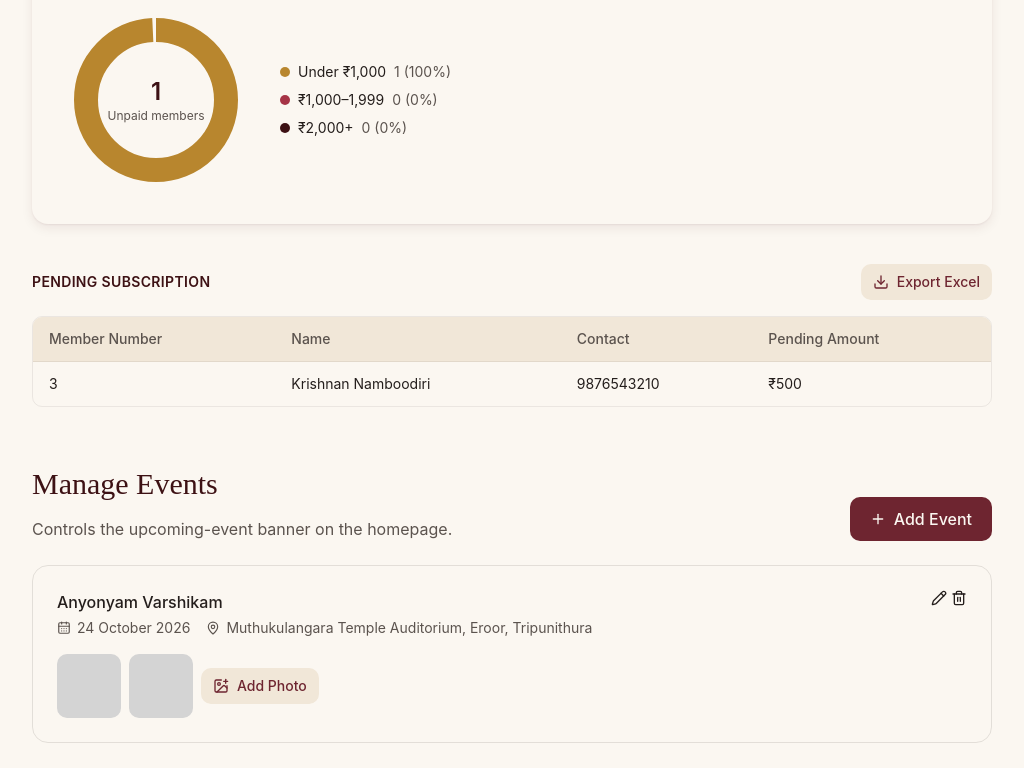
Test: AdminPage › opens the record-payment modal when a row is clicked
(page scrolled)
Click the text "Krishnan Namboodiri": {"x": 418, "y": 384} [275,362,561,406]
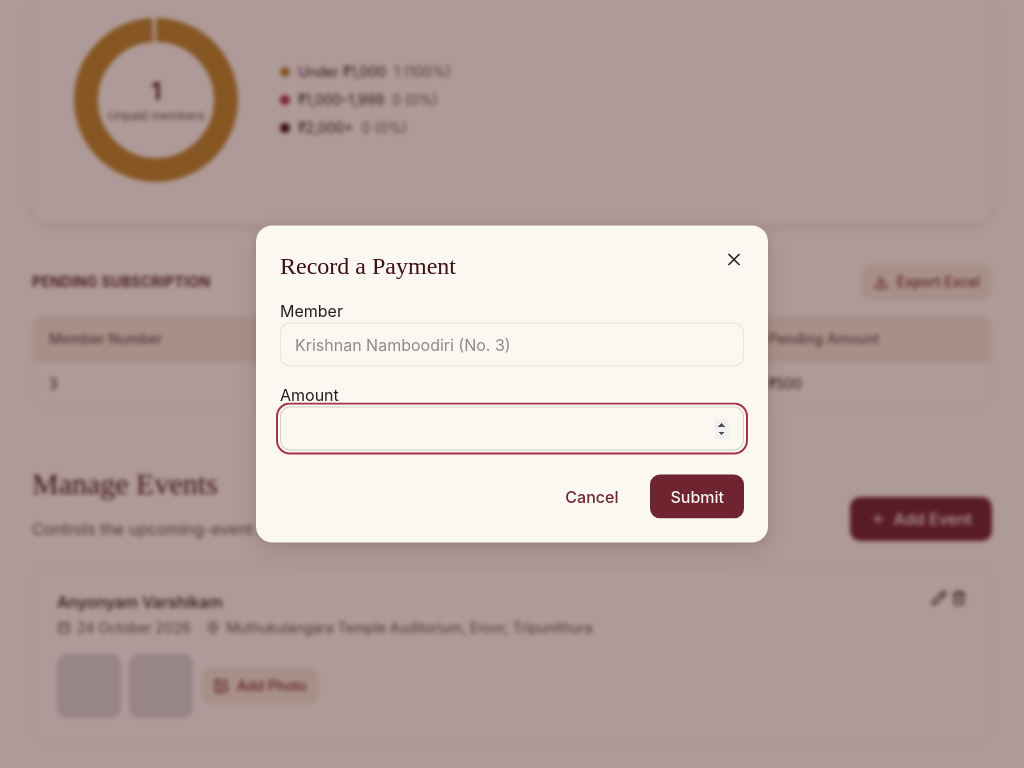
Now the dialog "Record a Payment" is shown, box [256,226,768,542]
